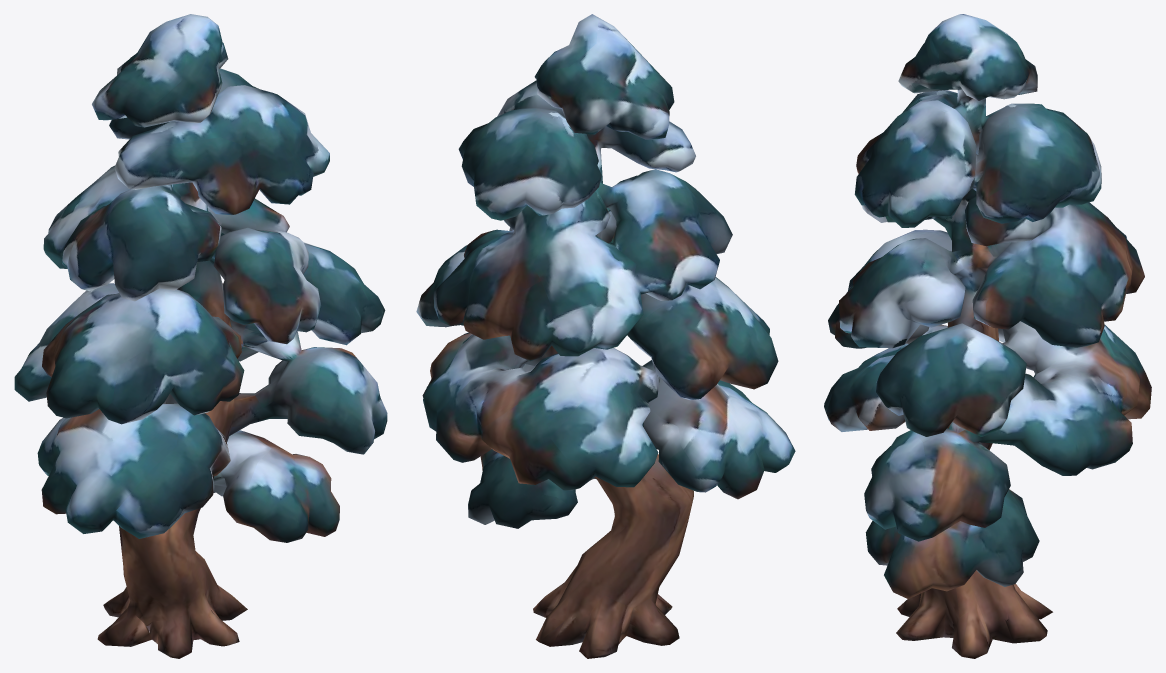
The model's file is SM_Env_FrostPine.glb.
The picture shows the model from 3 angles, left to right: view 1: azimuth 30°, elevation 25°; view 2: azimuth 150°, elevation 25°; view 3: azimuth 270°, elevation 25°; orthographic projection. The views are drawn at different scales.
Visible parts, largest first — view 1: SM_Env_FrostPine_LOD0; view 2: SM_Env_FrostPine_LOD0; view 3: SM_Env_FrostPine_LOD0.
Boxes of the visible parts, x1,y1,x2,y2 form: SM_Env_FrostPine_LOD0: [14, 14, 387, 658]; SM_Env_FrostPine_LOD0: [416, 14, 795, 658]; SM_Env_FrostPine_LOD0: [824, 14, 1151, 658].
Bounding box in the file's own units: 2.62 × 4.53 × 2.18.
Materials: 1 (1 with a texture image).
